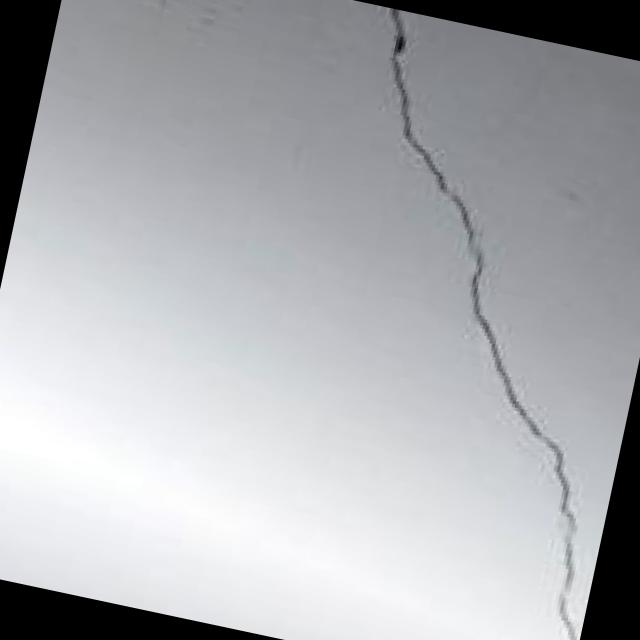crack: (244, 3, 640, 640)
